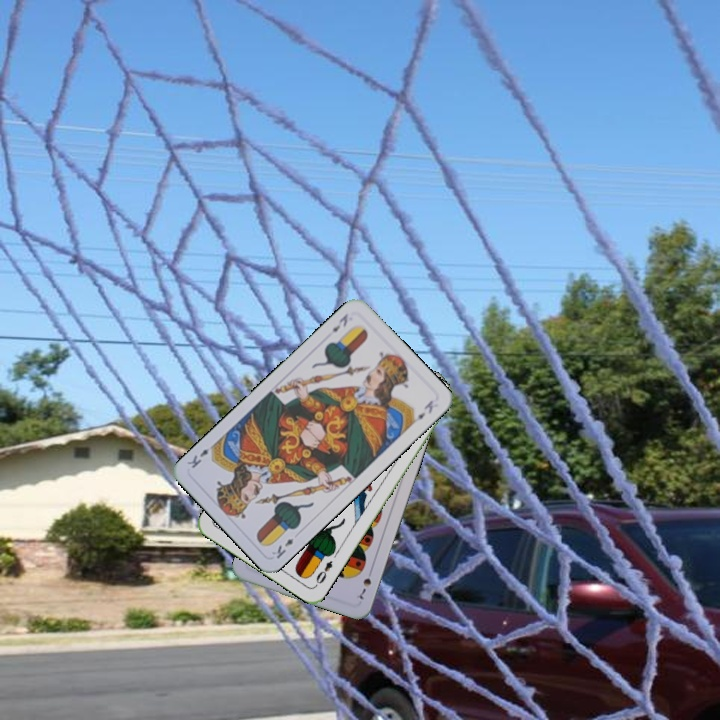EK: (267, 534, 296, 561), (328, 309, 351, 335)
EO: (311, 556, 335, 589)
S7: (355, 565, 375, 602)
